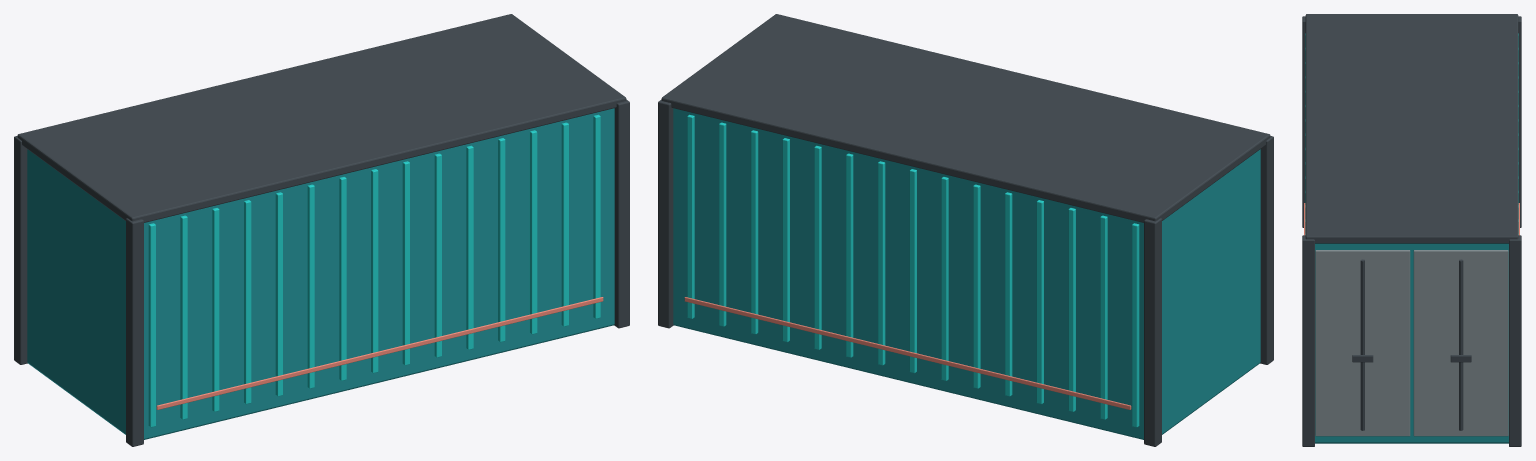
Rendered from Container.fbx.
The picture shows the model from 3 angles, left to right: view 1: azimuth 30°, elevation 25°; view 2: azimuth 150°, elevation 25°; view 3: azimuth 270°, elevation 25°; orthographic projection. The views are drawn at different scales.
Visible parts, largest first — view 1: Container; view 2: Container; view 3: Container.
Part boxes in pixels (x1=…): Container: x1=14, y1=14, x2=629, y2=446; Container: x1=658, y1=14, x2=1273, y2=446; Container: x1=1302, y1=14, x2=1521, y2=446.
Size of the model in its own units: 638 by 274 by 259.
